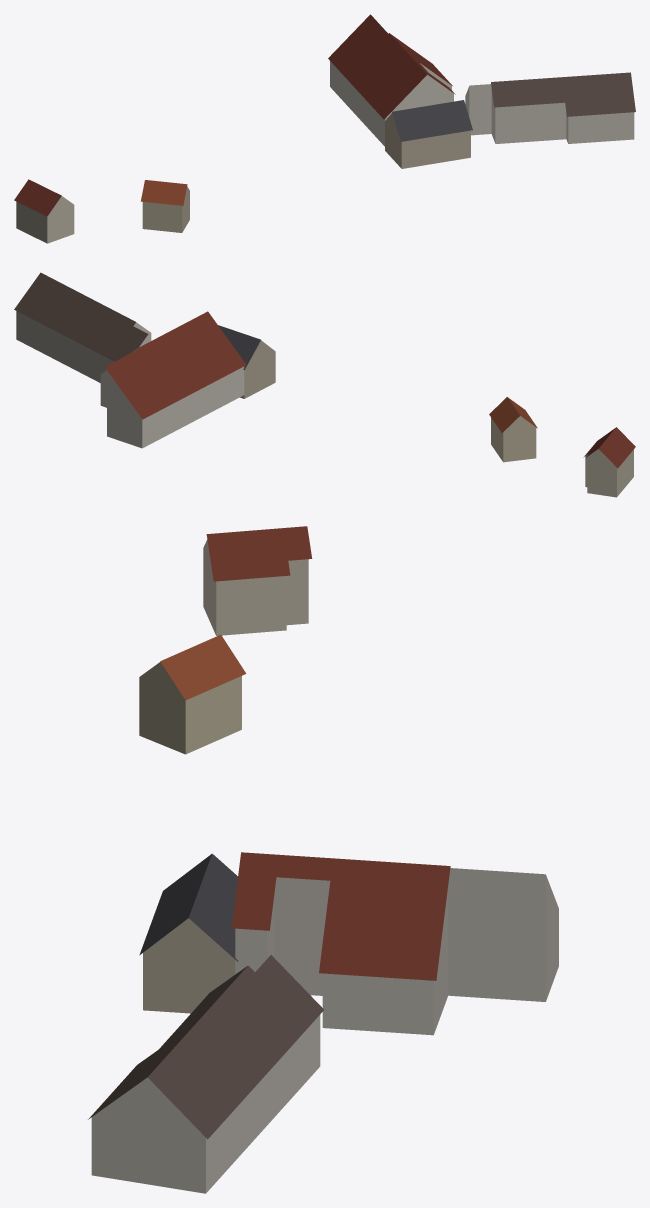
3 views of the same model, one above another, from view 1: azimuth 30°, elevation 25°; view 2: azimuth 150°, elevation 25°; view 3: azimuth 270°, elevation 25° (orthographic). The views are drawn at different scales.
Parts seen in each view (by area): view 1: buildings; view 2: buildings; view 3: buildings.
Boxes of the visible parts, bbox=[...] form: buildings: bbox=[14, 14, 635, 243]; buildings: bbox=[14, 272, 635, 497]; buildings: bbox=[88, 526, 558, 1193].
Bounding box in the file's own units: 128 × 16.45 × 44.88.
